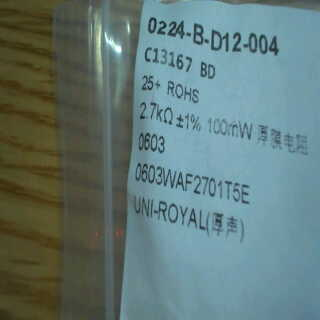2.7kR: (137, 99, 173, 128)
